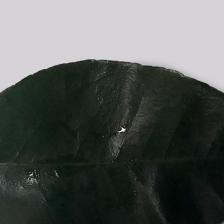healthy: (1, 70, 224, 221)
